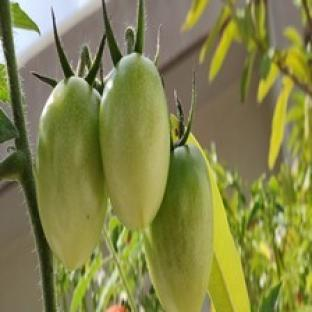Tomato: (35, 77, 107, 268), (101, 53, 169, 229), (145, 145, 213, 311), (106, 304, 126, 311)
